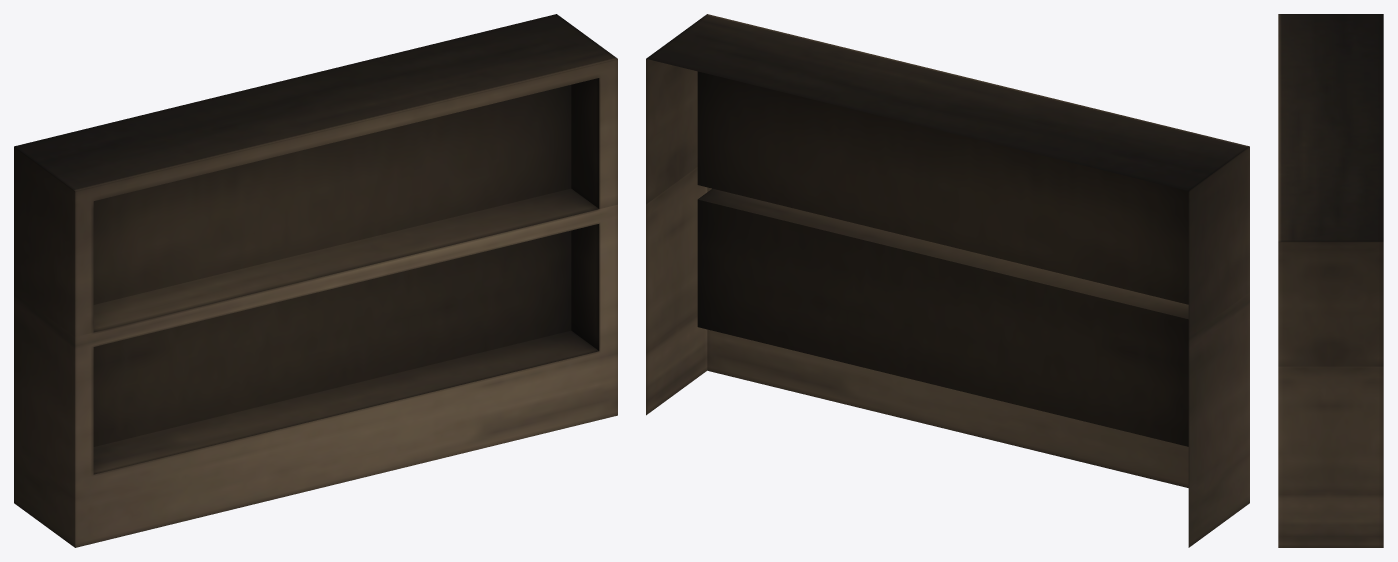
File: potion display shelves.fbx
The picture shows the model from 3 angles, left to right: view 1: azimuth 30°, elevation 25°; view 2: azimuth 150°, elevation 25°; view 3: azimuth 270°, elevation 25°; orthographic projection. The views are drawn at different scales.
Parts seen in each view (by area): view 1: Magic_shelf_1; view 2: Magic_shelf_1; view 3: Magic_shelf_1.
Boxes of the visible parts, x1=… form: Magic_shelf_1: x1=14, y1=14, x2=617, y2=547; Magic_shelf_1: x1=646, y1=14, x2=1249, y2=547; Magic_shelf_1: x1=1278, y1=14, x2=1383, y2=547.
Size of the model in its own units: 3.23 by 2.03 by 0.6311.
